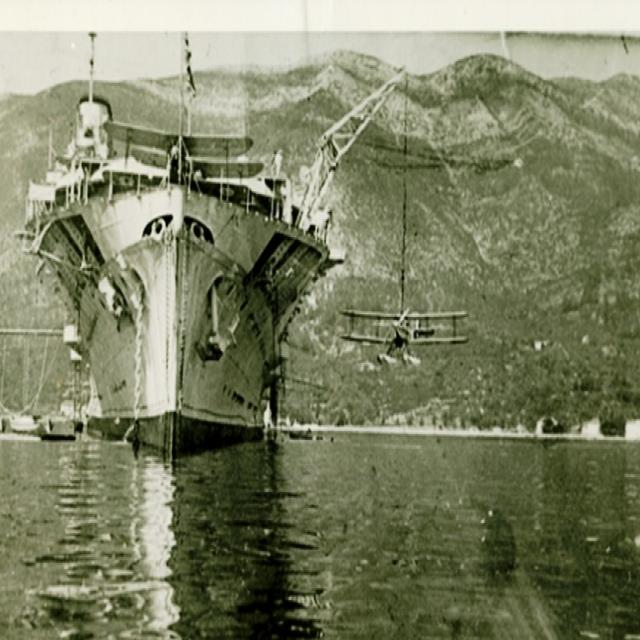Portanaves: (25, 59, 342, 468)
